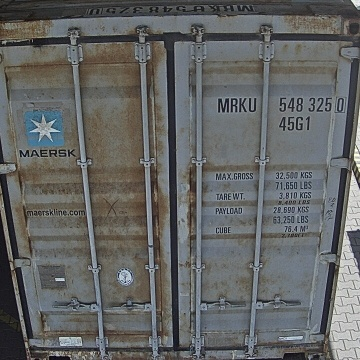serial_id: (218, 96, 346, 112)
